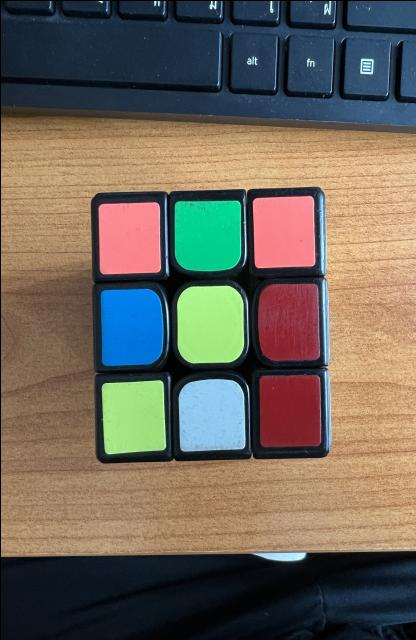Blue: (100, 288, 162, 365)
Green: (173, 199, 240, 270)
Orange: (251, 195, 314, 268), (98, 201, 160, 274)
Red: (257, 282, 318, 360), (259, 374, 321, 446)
White: (178, 378, 245, 451)
Yellow: (176, 285, 244, 362), (101, 379, 166, 454)
